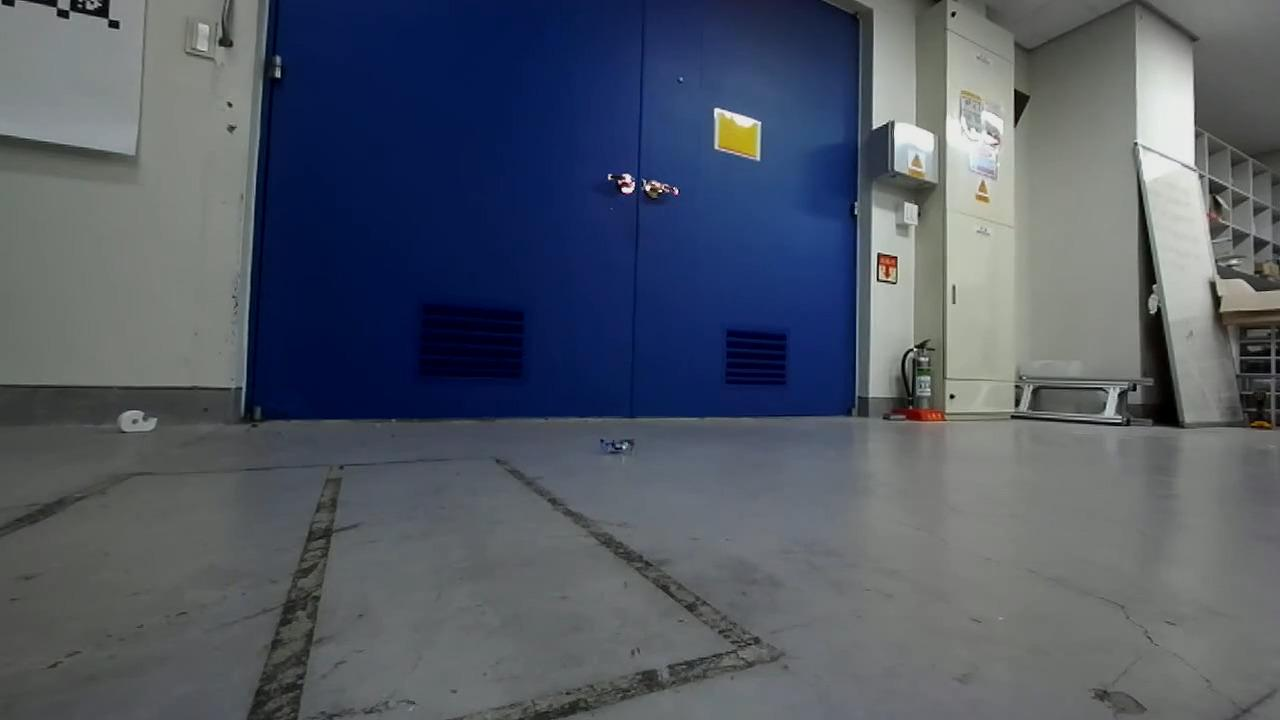crazyflie: (591, 430, 645, 456)
